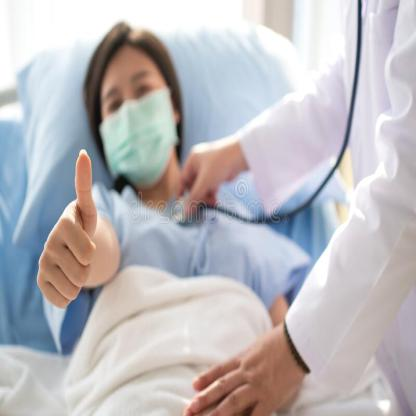Thumbs up: (30, 150, 96, 316)
